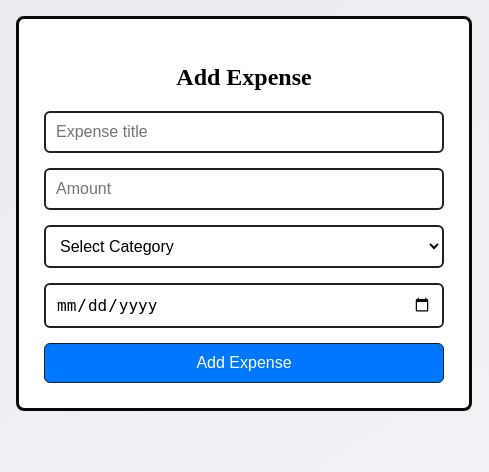
Test: AddExpense Component › shows error if amount <= 0 (client-side validation)
The width and height of the screenshot is (489, 472).
Step 1. Type "Test Expense" into the field with test id "title-input" → coordinates (244, 132), box [44,111,444,153]
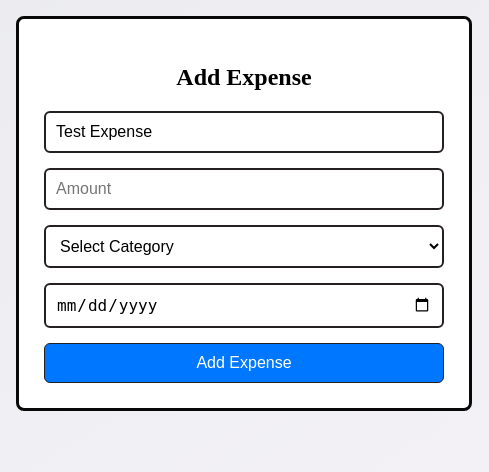
Step 2. Type "-10" into the number field with test id "amount-input" → coordinates (244, 189), box [44,168,444,210]
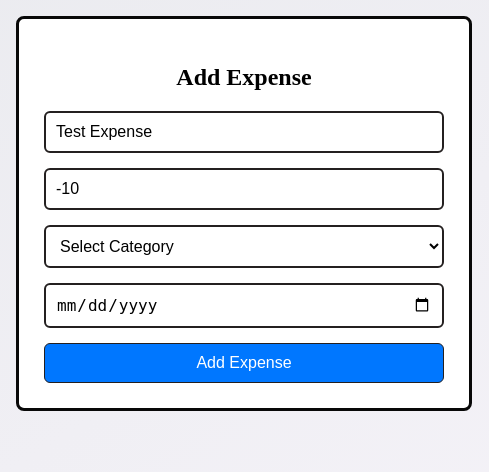
Step 3. Select "Food" in the dropdown with test id "category-select" → coordinates (244, 246), box [44,225,444,268]
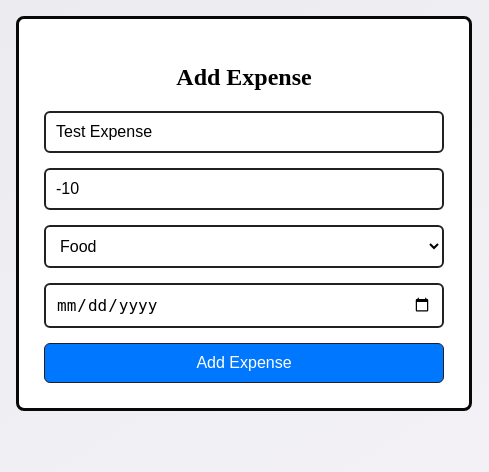
Step 4. Type "2025-12-01" into the date field with test id "date-input" → coordinates (244, 305), box [44,283,444,328]
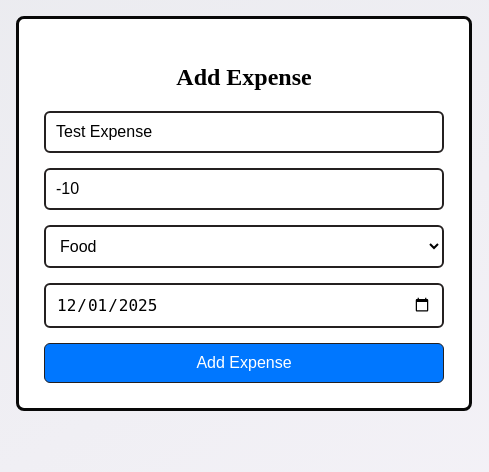
Step 5. Click the button "Add Expense" → coordinates (244, 363), box [44,343,444,383]
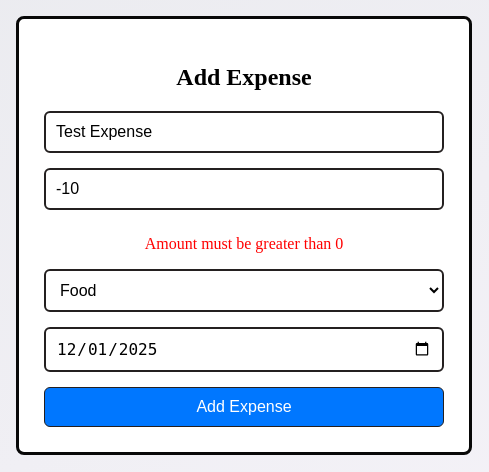
Now the text "Amount must be greater than 0" is shown, box [145,235,343,252]
